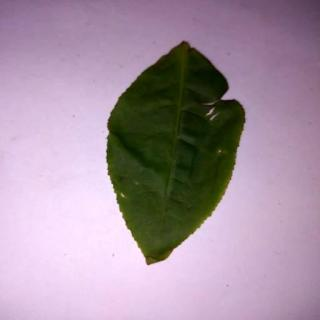Bird Eye Spot: (107, 41, 246, 266)
